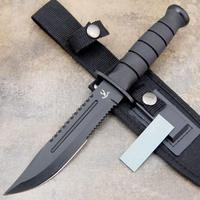knife: (2, 3, 187, 198)
